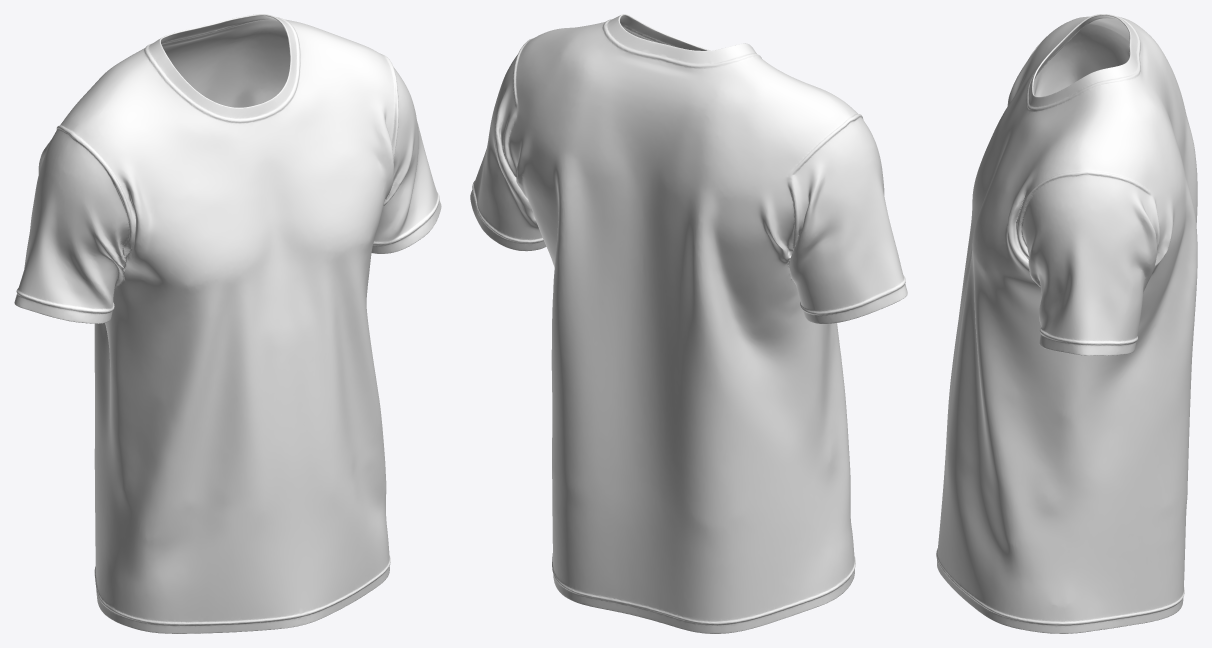
File: meshy_tee_new.glb
The picture shows the model from 3 angles, left to right: view 1: azimuth 30°, elevation 25°; view 2: azimuth 150°, elevation 25°; view 3: azimuth 270°, elevation 25°; orthographic projection. The views are drawn at different scales.
Bounding box in the file's own units: 1.54 × 1.9 × 0.838.
1 material, 1 textured.
